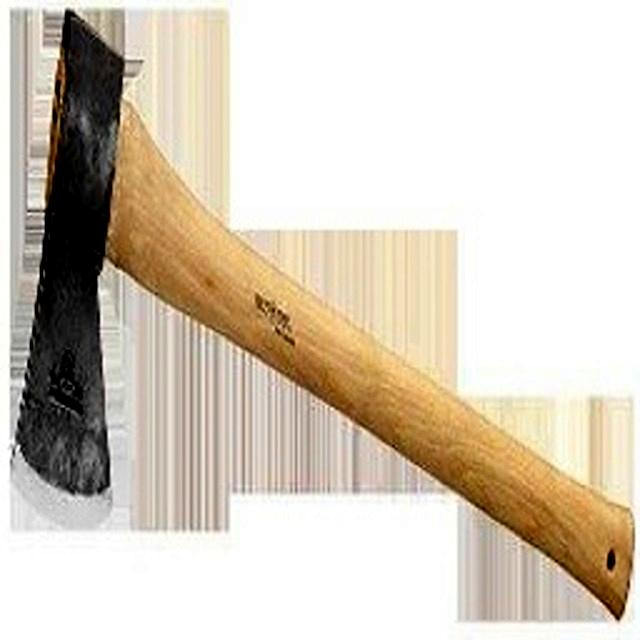ax: (1, 0, 640, 632)
